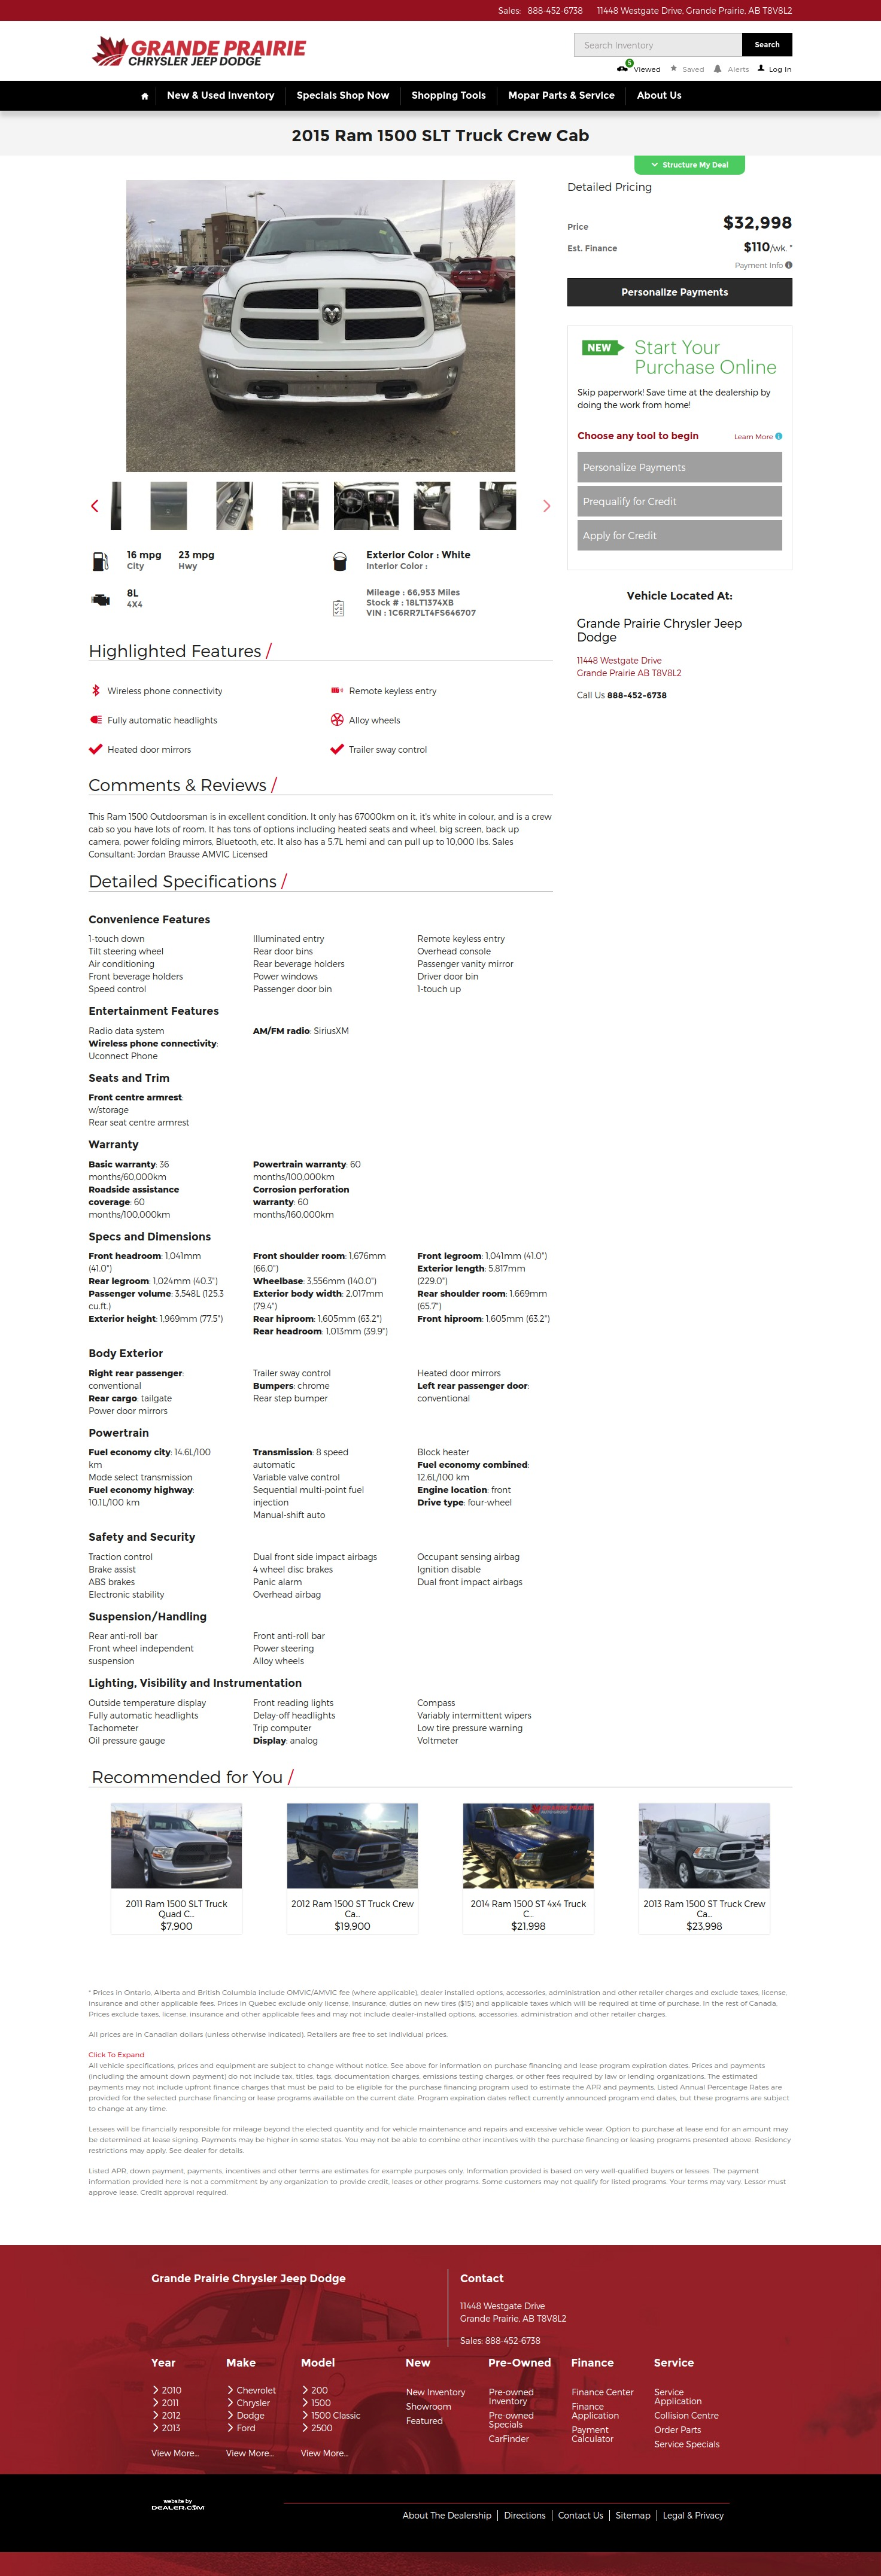car: (544, 499, 551, 513)
